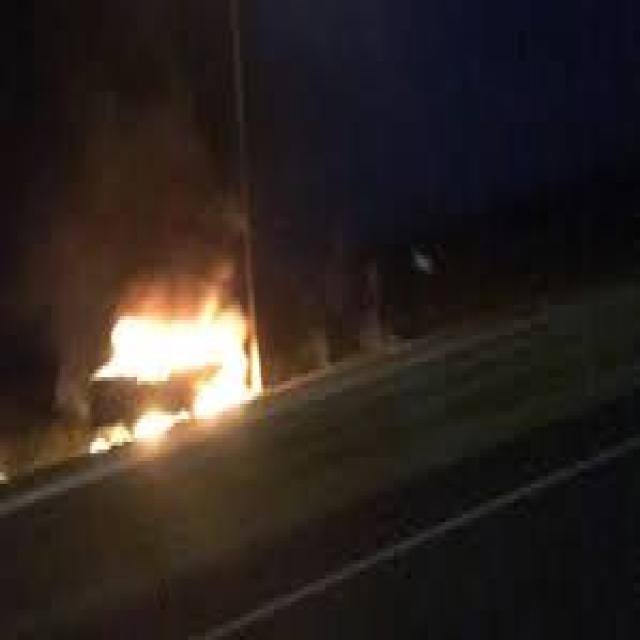Fire: (89, 283, 272, 467)
Smoke: (40, 19, 192, 216)
